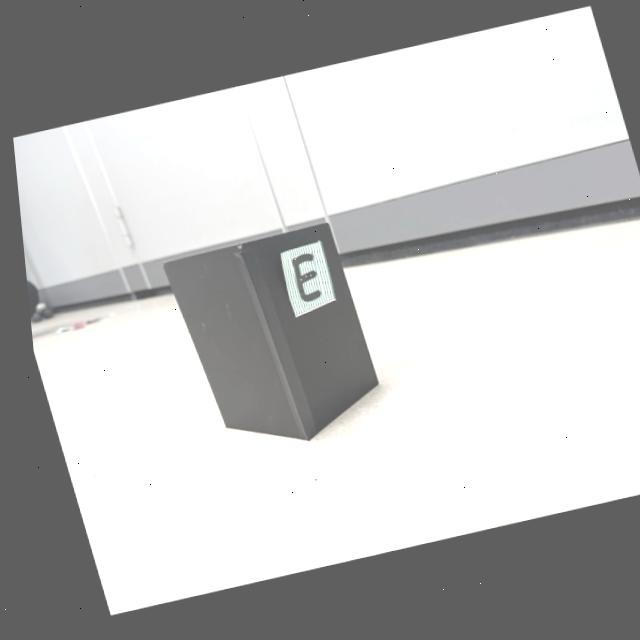E: (287, 255, 314, 302)
